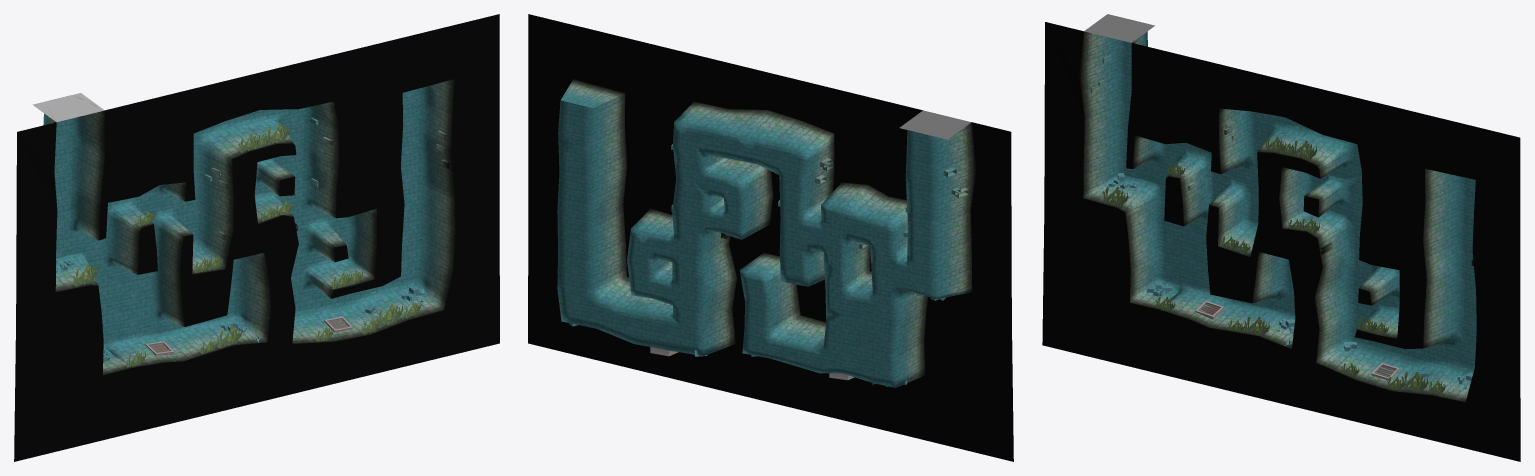
File: magakhan_dungeon_underwater.glb
The picture shows the model from 3 angles, left to right: view 1: azimuth 30°, elevation 25°; view 2: azimuth 150°, elevation 25°; view 3: azimuth 330°, elevation 25°; orthographic projection.
Parts seen in each view (by area): view 1: blackarea, backgroundwall, underwatertop; view 2: backgroundwall, blackarea, underwatertop; view 3: blackarea, backgroundwall, underwatertop.
Boxes of the visible parts, box(x1,y1,x2,y2) form: blackarea: box(14, 14, 499, 461); backgroundwall: box(43, 79, 455, 375); underwatertop: box(32, 93, 104, 122); backgroundwall: box(557, 79, 976, 387); blackarea: box(528, 14, 1013, 461); underwatertop: box(899, 110, 971, 139); blackarea: box(1042, 22, 1520, 461); backgroundwall: box(1079, 31, 1476, 402); underwatertop: box(1084, 14, 1154, 42).
Bounding box in the file's own units: 50.01 × 32.42 × 5.7.
8 materials, 6 textured.
